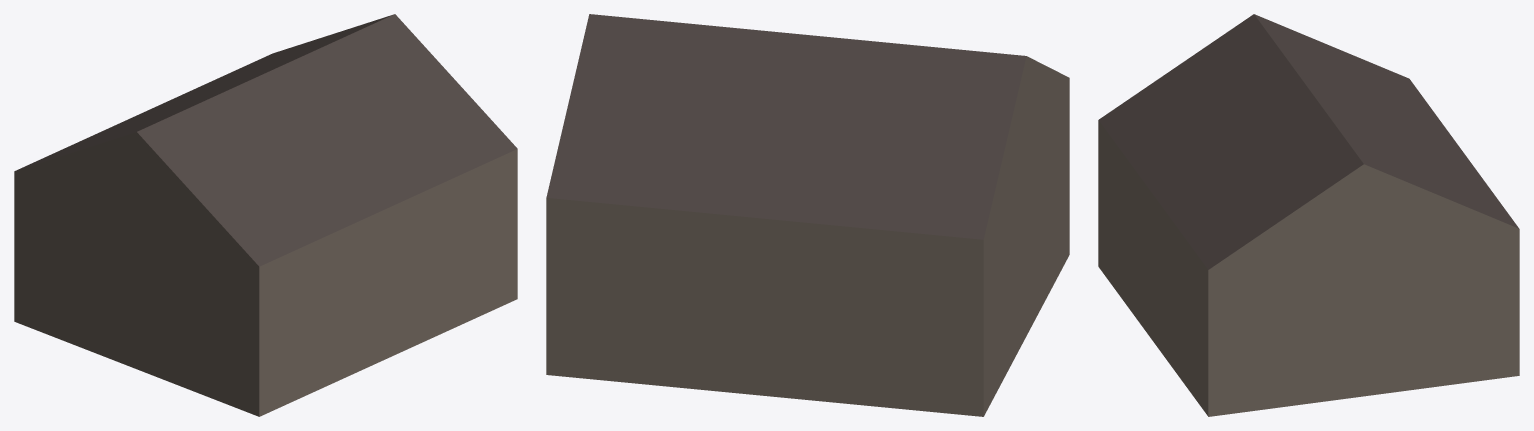
3 views of the same model, side by side, from view 1: azimuth 30°, elevation 25°; view 2: azimuth 150°, elevation 25°; view 3: azimuth 270°, elevation 25° (orthographic). The views are drawn at different scales.
Parts seen in each view (by area): view 1: HP-w859078884; view 2: HP-w859078884; view 3: HP-w859078884.
Part boxes in pixels (left/top/right/bottom): HP-w859078884: left=14, top=14, right=517, bottom=416; HP-w859078884: left=546, top=14, right=1069, bottom=416; HP-w859078884: left=1098, top=14, right=1519, bottom=416.
Bounding box in the file's own units: 16.75 × 9.48 × 15.58.
